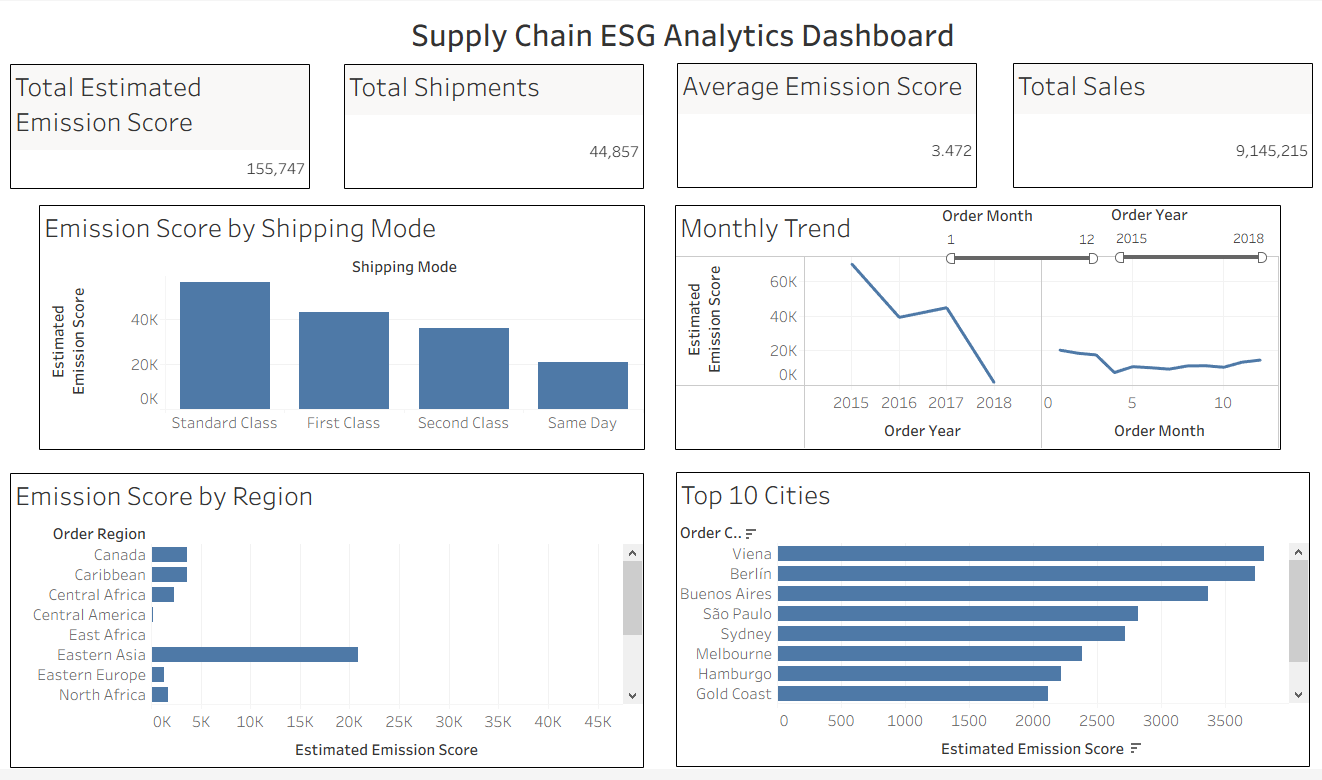

This screenshot's page, from the dashboard's own definition file:
{"tool":"tableau","page":{"name":"Dashboard 1","canvas":[1366,768],"ordinal":0},"visuals":[{"type":"title","box":[8,8,1350,49]},{"type":"worksheet","title":"Average Emission Score","mark":"Automatic","box":[677,62,300,125]},{"type":"worksheet","title":"Total Sales","mark":"Automatic","box":[1013,62,300,125]},{"type":"worksheet","title":"Total Estimated Emission Score","mark":"Automatic","box":[10,63,300,125]},{"type":"worksheet","title":"Total Shipments","mark":"Automatic","box":[344,63,300,125]},{"type":"worksheet","title":"Emission Score by Shipping Mode","mark":"Automatic","rows":["estimated_emission_score"],"cols":["shipping_mode"],"box":[39,204,606,245]},{"type":"filter","title":"Monthly Trend","param":"[federated.1i4zhrc0zn66w912182361lthk5v].[none:order_month:qk]","box":[505,204,160,65]},{"type":"filter","title":"Monthly Trend","param":"[federated.1i4zhrc0zn66w912182361lthk5v].[none:order_year:qk]","box":[505,204,160,65]},{"type":"worksheet","title":"Monthly Trend","mark":"Automatic","rows":["estimated_emission_score"],"cols":["order_year","order_month"],"box":[675,204,606,245]},{"type":"worksheet","title":"Top 10 Cities","mark":"Automatic","rows":["order_city"],"cols":["estimated_emission_score"],"box":[676,471,634,295]},{"type":"worksheet","title":"Emission Score by Region","mark":"Automatic","rows":["order_region"],"cols":["estimated_emission_score"],"box":[10,472,634,295]}]}

Visuals, with their boxes in screenshot pixels (x1, y1, x2, y2):
title: (11, 11, 1321, 60)
"Average Emission Score" worksheet: (673, 65, 970, 188)
"Total Sales" worksheet: (1006, 65, 1303, 188)
"Total Estimated Emission Score" worksheet: (13, 66, 310, 189)
"Total Shipments" worksheet: (344, 66, 641, 189)
"Emission Score by Shipping Mode" worksheet: (42, 205, 642, 448)
"Monthly Trend" filter: (503, 205, 661, 270)
"Monthly Trend" filter: (503, 205, 661, 270)
"Monthly Trend" worksheet: (671, 205, 1271, 448)
"Top 10 Cities" worksheet: (672, 469, 1300, 761)
"Emission Score by Region" worksheet: (13, 470, 641, 762)
